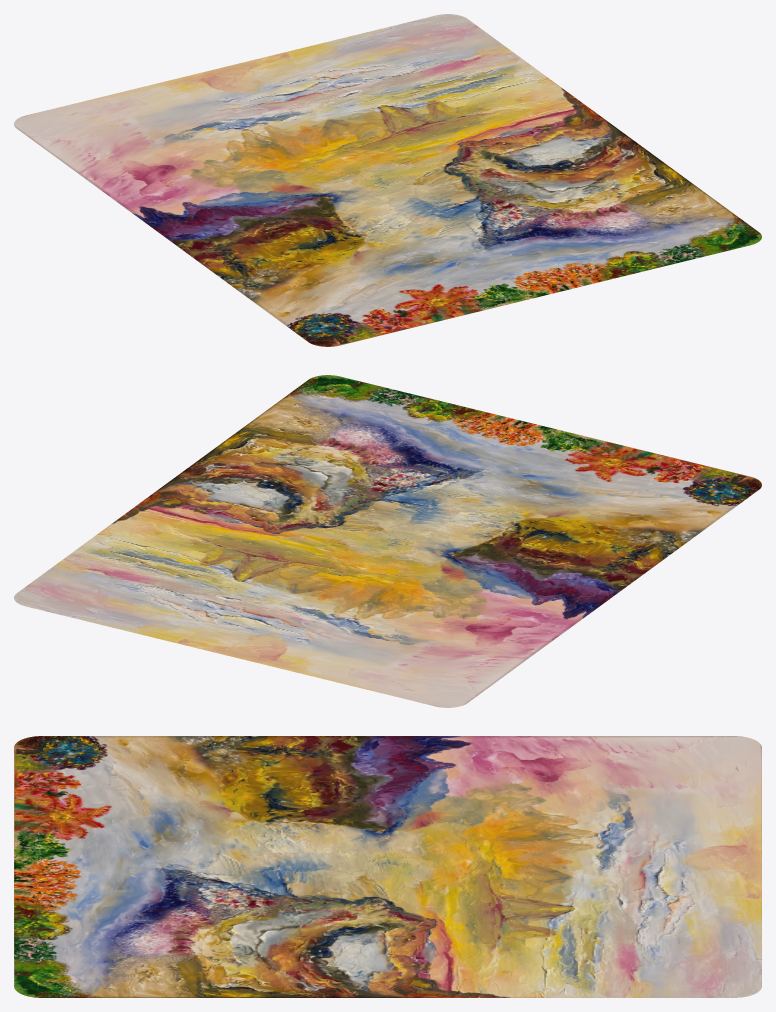
File: Demo - Arm chair (1).glb
The picture shows the model from 3 angles, top to bottom: view 1: azimuth 30°, elevation 25°; view 2: azimuth 150°, elevation 25°; view 3: azimuth 270°, elevation 25°; orthographic projection. The views are drawn at different scales.
Visible parts, largest first — view 1: FRACTALIAX 2; view 2: FRACTALIAX 2; view 3: FRACTALIAX 2.
Boxes of the visible parts, <box> form: FRACTALIAX 2: <box>14,14,761,346</box>; FRACTALIAX 2: <box>14,375,761,707</box>; FRACTALIAX 2: <box>14,736,761,997</box>.
Bounding box in the file's own units: 0.212 × 5.68e-17 × 0.256.
Materials: 1 (1 with a texture image).
